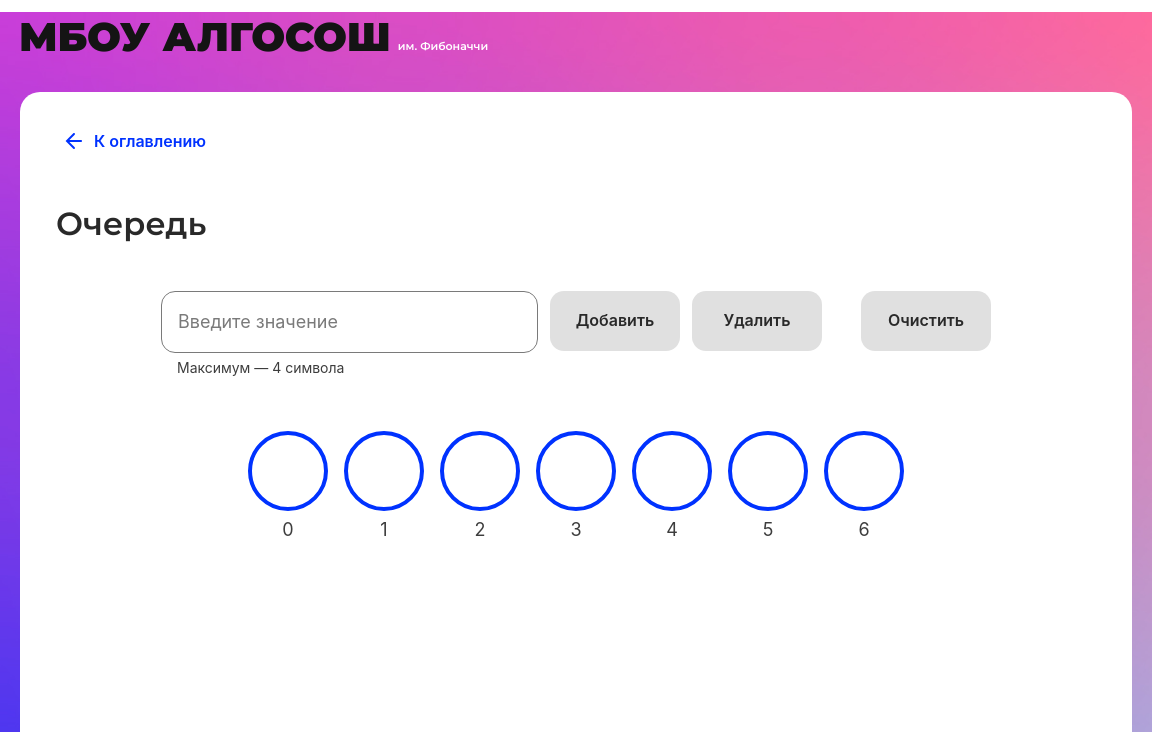
Очередь › если в инпуте пусто, кнопка добавления недоступна
The image size is (1152, 732).
Expected: the button "Добавить" is disabled, [550,291,680,351]
Step 1. Type "blah" into the field with placeholder "Введите значение" → {"x": 350, "y": 322}, box [161,291,538,353]
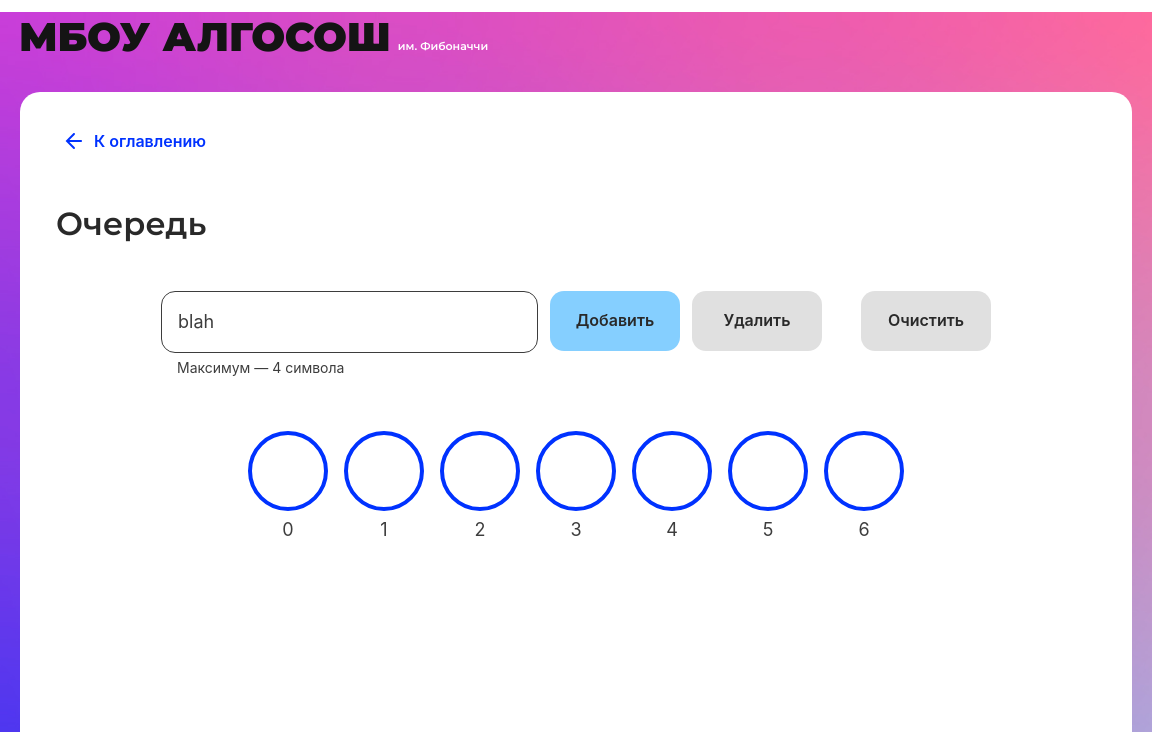
Result: the button "Добавить" is enabled at [550,291,680,351]
